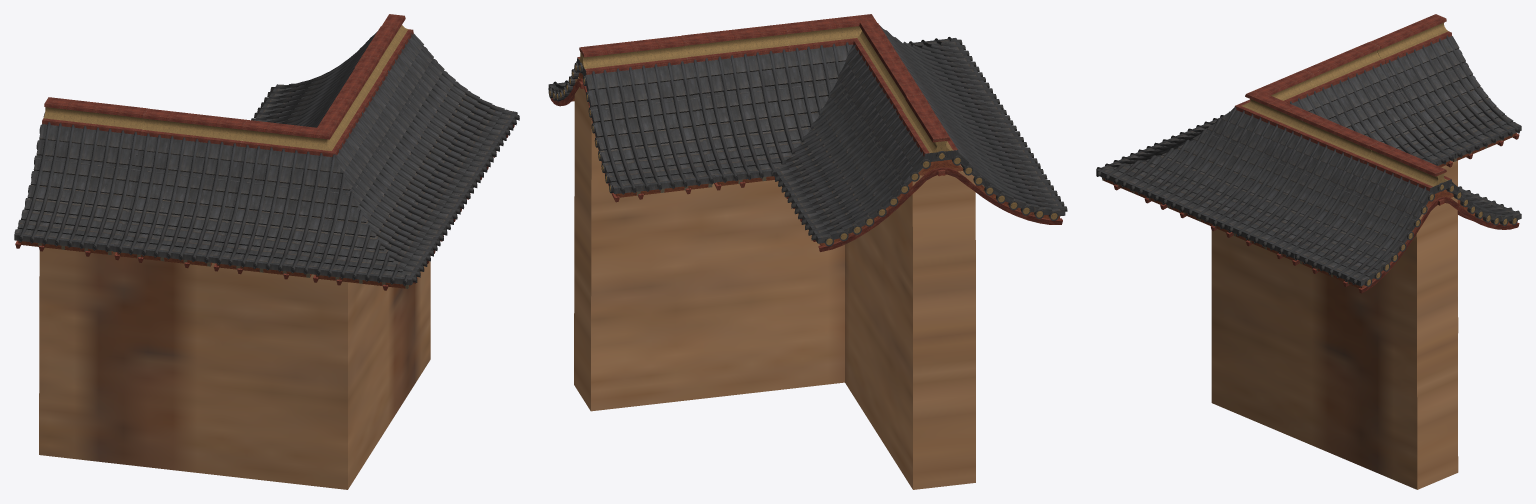
Rendered from parameterWallTurn.fbx.
The picture shows the model from 3 angles, left to right: view 1: azimuth 30°, elevation 25°; view 2: azimuth 150°, elevation 25°; view 3: azimuth 270°, elevation 25°; orthographic projection. The views are drawn at different scales.
Visible parts, largest first — view 1: section13_RoofSect2_polySurface95; view 2: section13_RoofSect2_polySurface95; view 3: section13_RoofSect2_polySurface95.
Part boxes in pixels (x1=…): section13_RoofSect2_polySurface95: x1=14, y1=14, x2=519, y2=489; section13_RoofSect2_polySurface95: x1=548, y1=14, x2=1067, y2=489; section13_RoofSect2_polySurface95: x1=1096, y1=14, x2=1521, y2=489.
Bounding box in the file's own units: 4.5 × 2.9 × 3.62.
